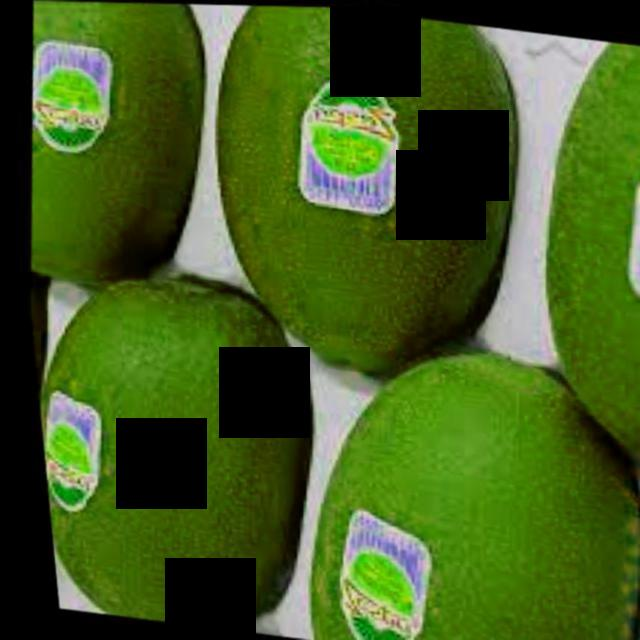kiwi: (176, 4, 551, 400), (20, 253, 330, 638), (265, 327, 640, 640), (6, 1, 235, 307), (498, 33, 640, 473)
